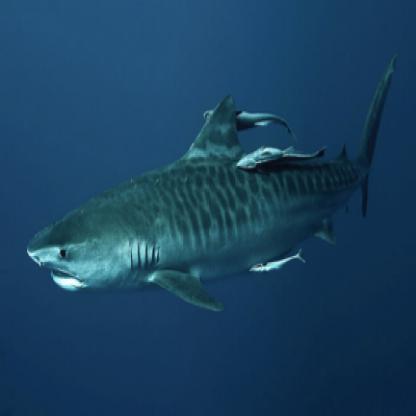shark: (24, 45, 402, 318)
